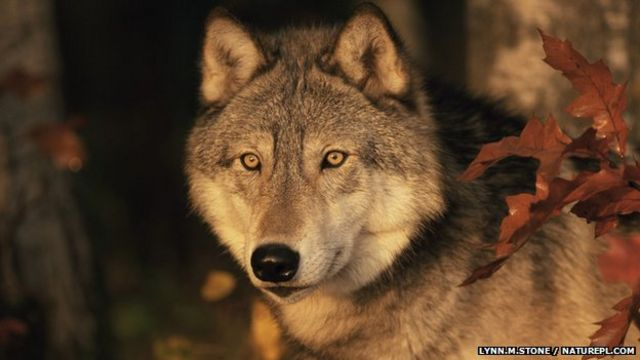Lobo: (157, 7, 513, 338)
